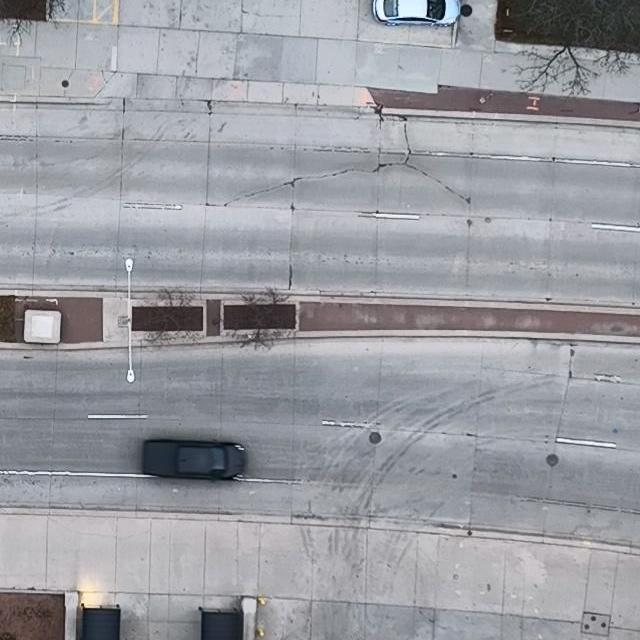car: (142, 440, 246, 482), (372, 0, 461, 27)
